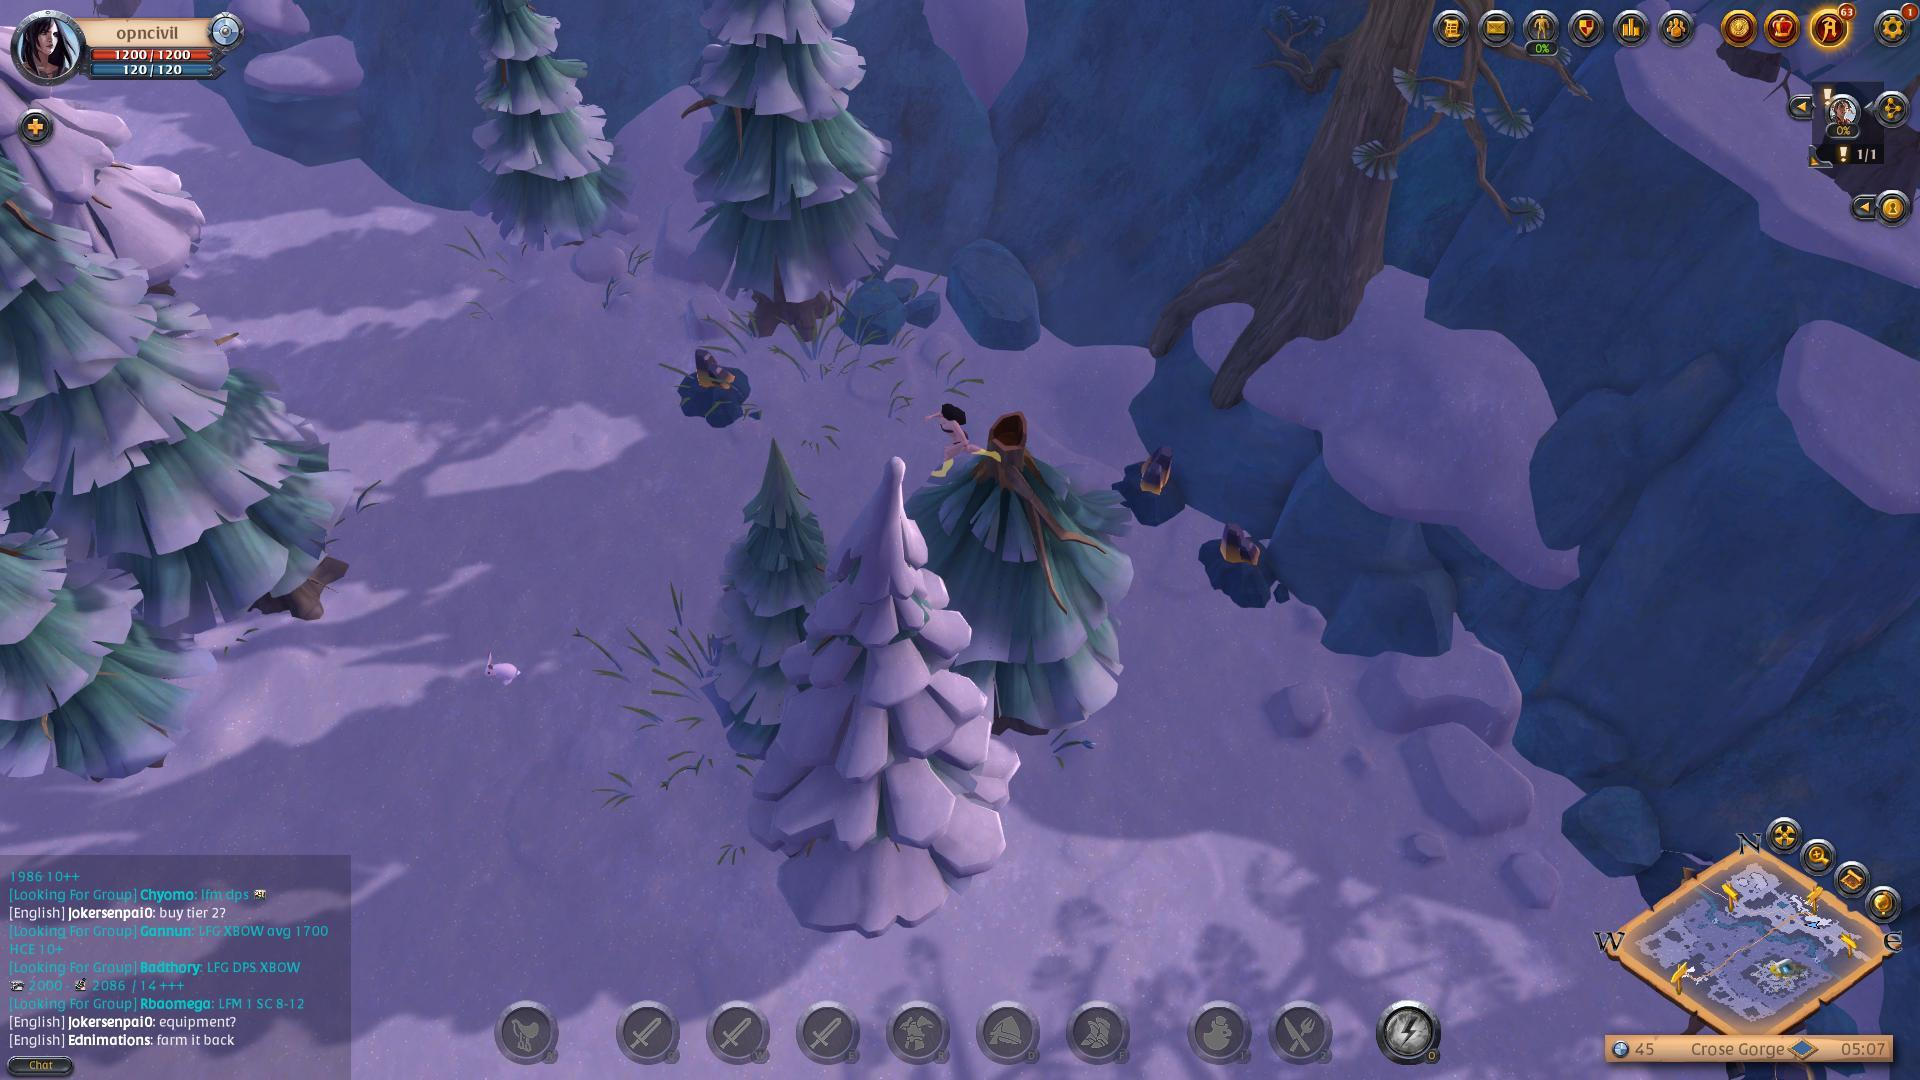copper_ore: (675, 338, 764, 433), (1189, 529, 1292, 595), (1121, 444, 1196, 531)
